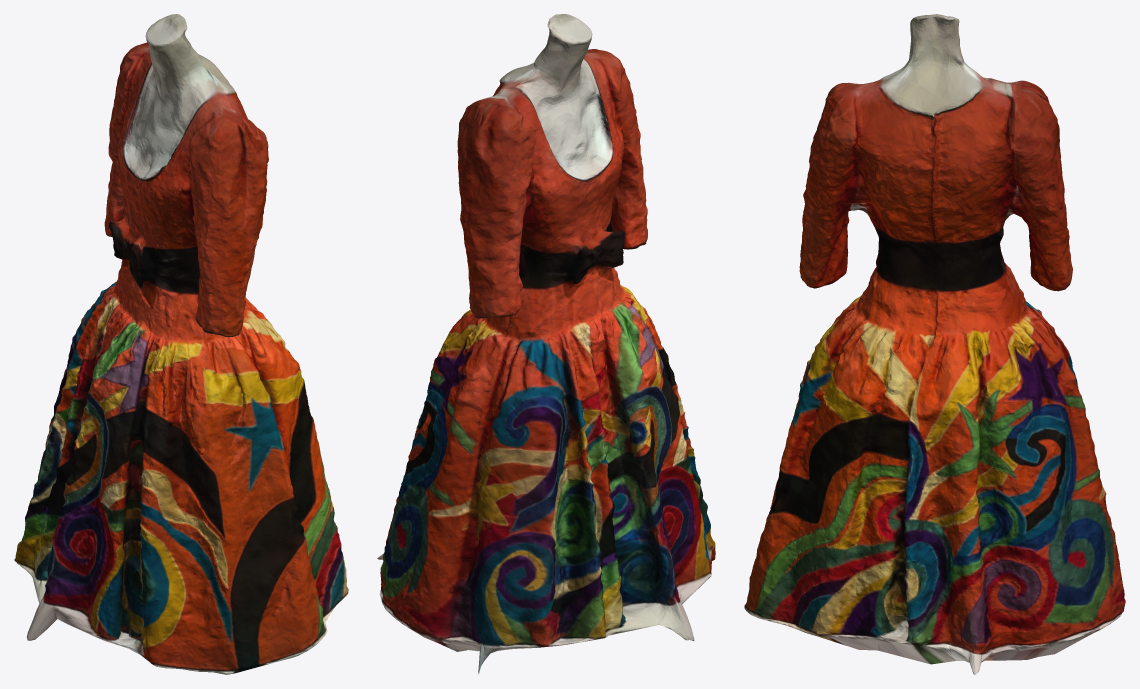
Rendered from dress.gltf.
The picture shows the model from 3 angles, left to right: view 1: azimuth 30°, elevation 25°; view 2: azimuth 150°, elevation 25°; view 3: azimuth 270°, elevation 25°; orthographic projection. The views are drawn at different scales.
Parts seen in each view (by area): view 1: Mesh_0; view 2: Mesh_0; view 3: Mesh_0.
Boxes of the visible parts, x1,y1,x2,y2 form: Mesh_0: (14,14,348,674); Mesh_0: (377,14,715,674); Mesh_0: (744,14,1125,674).
Bounding box in the file's own units: 0.7401 × 1.38 × 0.7874.
Materials: 1 (1 with a texture image).
